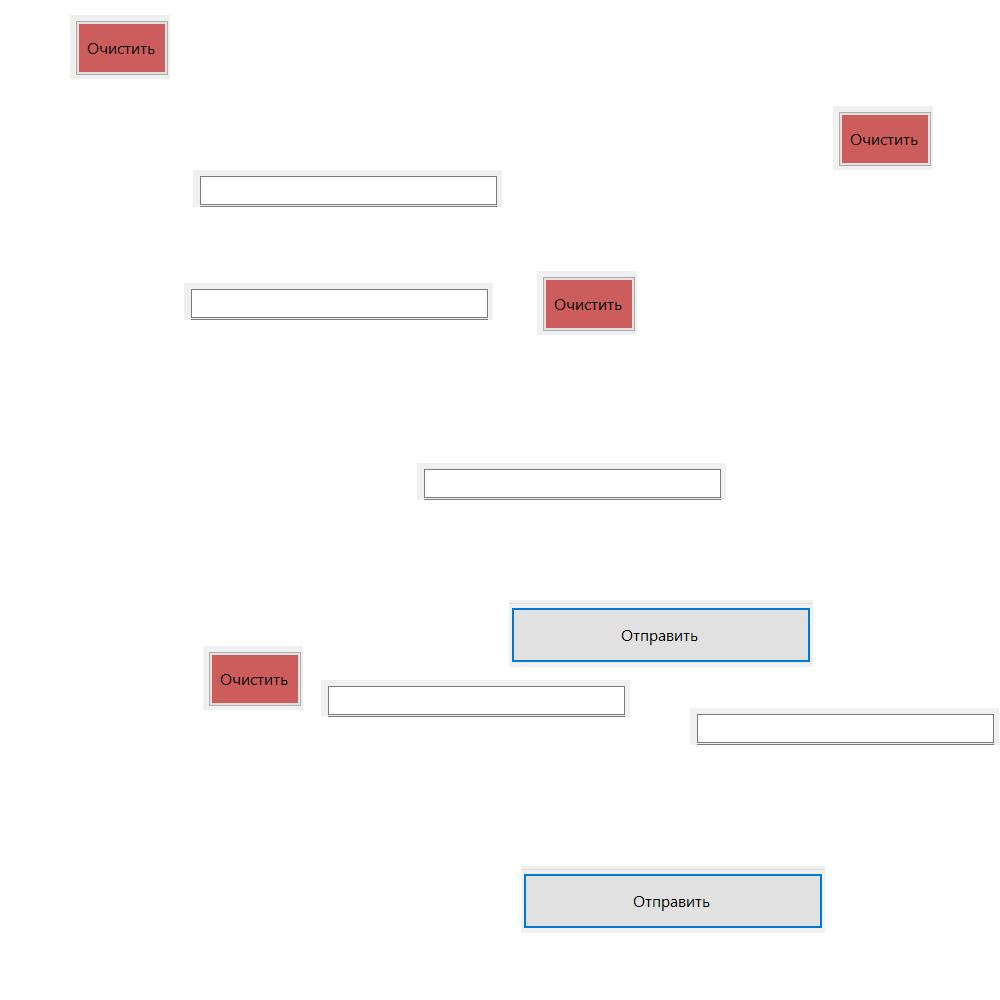Button: (521, 866, 825, 933), (509, 600, 813, 667), (833, 106, 933, 170), (203, 646, 303, 710), (537, 271, 637, 335), (70, 15, 170, 79)
EditText-: (417, 463, 726, 500), (193, 170, 502, 207), (690, 708, 999, 745), (321, 680, 630, 717), (184, 283, 493, 320)
